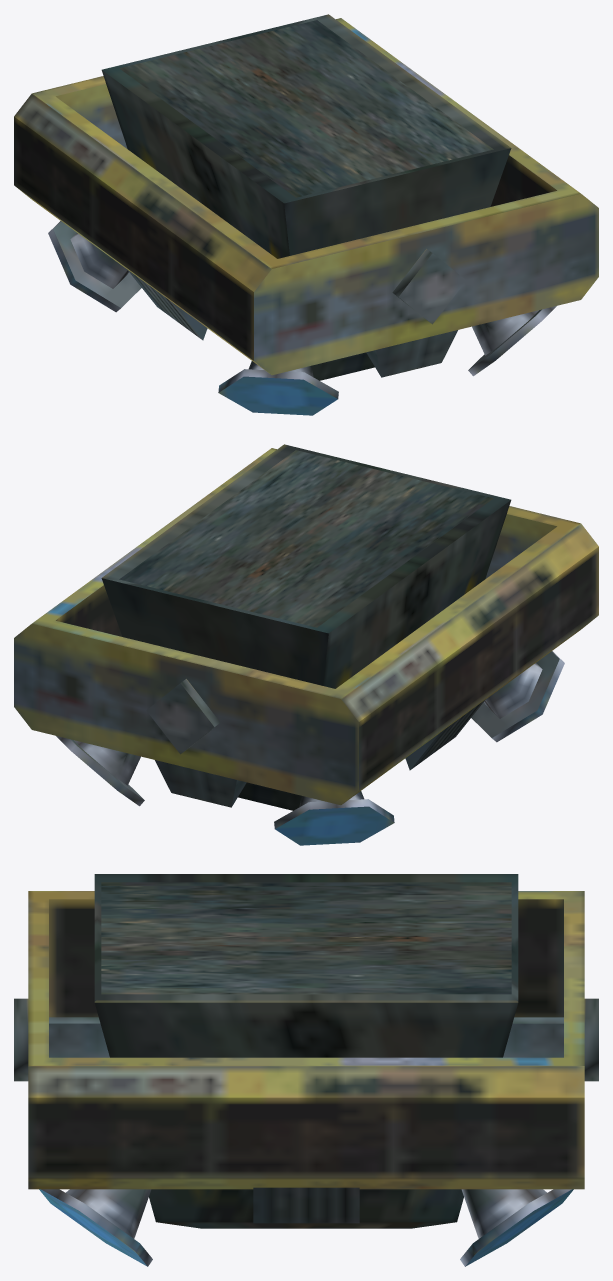
File: bunker_mine_lift_s02_l2.fbx
3 renders of one model, top to bottom at view 1: azimuth 30°, elevation 25°; view 2: azimuth 150°, elevation 25°; view 3: azimuth 270°, elevation 25°, orthographic. The views are drawn at different scales.
Visible parts, largest first — view 1: mesh_node; view 2: mesh_node; view 3: mesh_node.
Part boxes in pixels (<box>): mesh_node: <box>14,14,598,415</box>; mesh_node: <box>14,444,598,845</box>; mesh_node: <box>14,874,598,1266</box>.
Bounding box in the file's own units: 5.93 × 3.74 × 7.51.
Materials: 2 (2 with a texture image).
